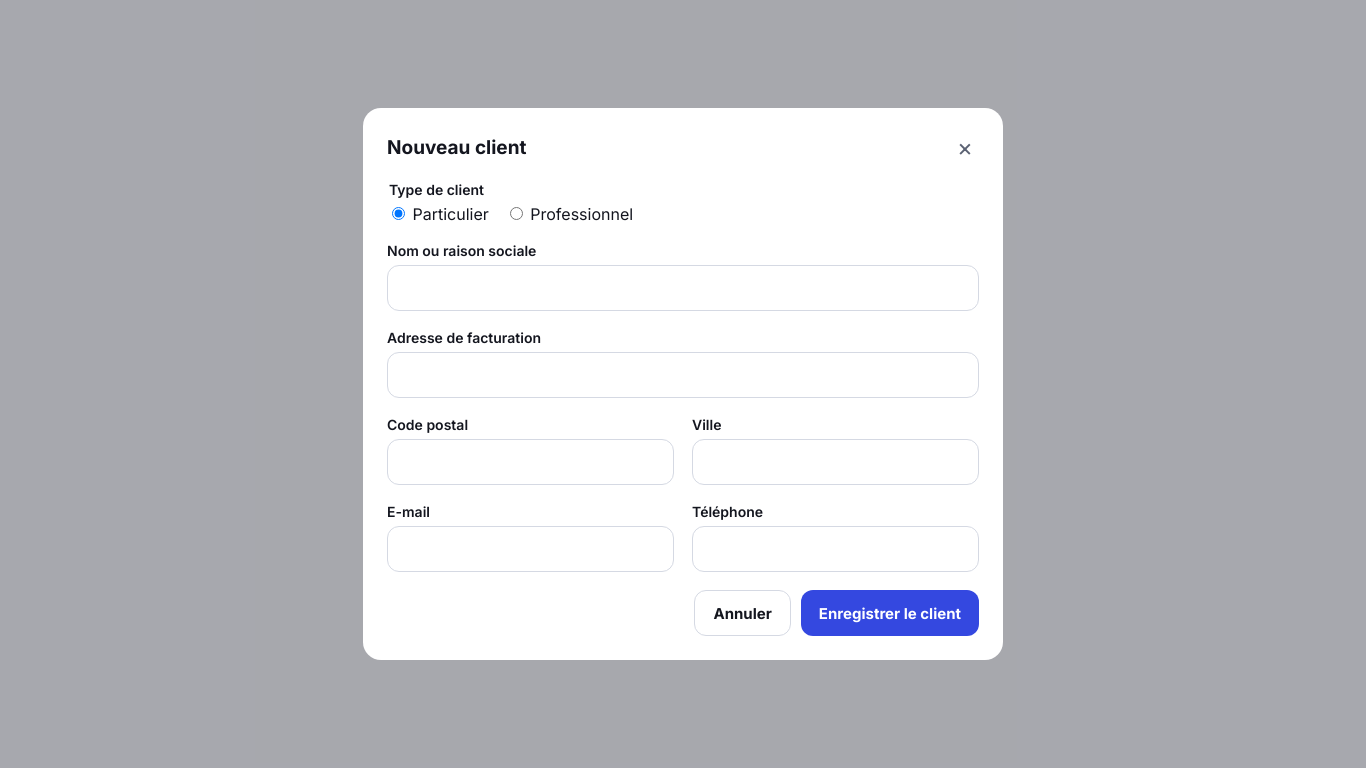
it: ne demande le SIREN que pour un professionnel
Check: the field labelled "SIREN ou SIRET" is not shown
Click the radio button labelled "Professionnel". click: {"x": 516, "y": 214}
box: [510,207,523,220]
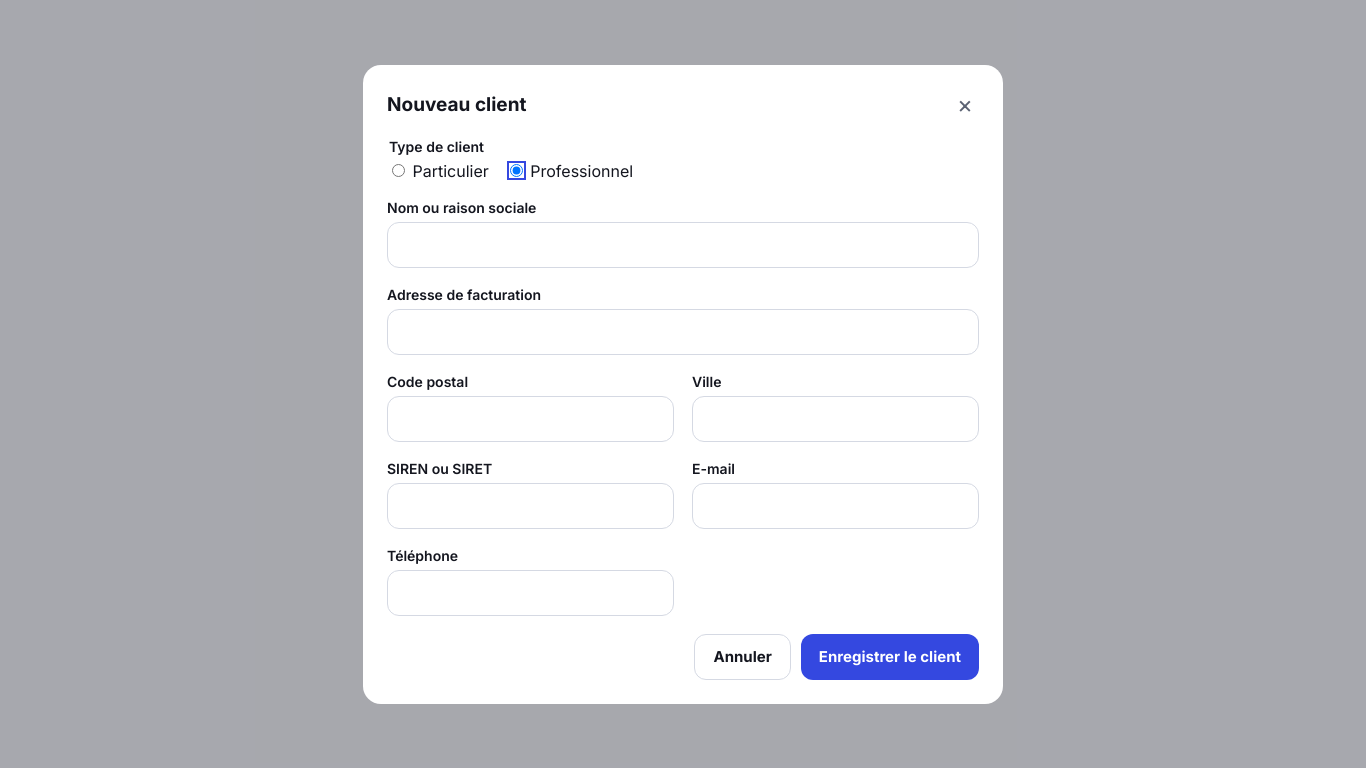
Check: the field labelled "SIREN ou SIRET" is shown, box [387,482,674,528]
